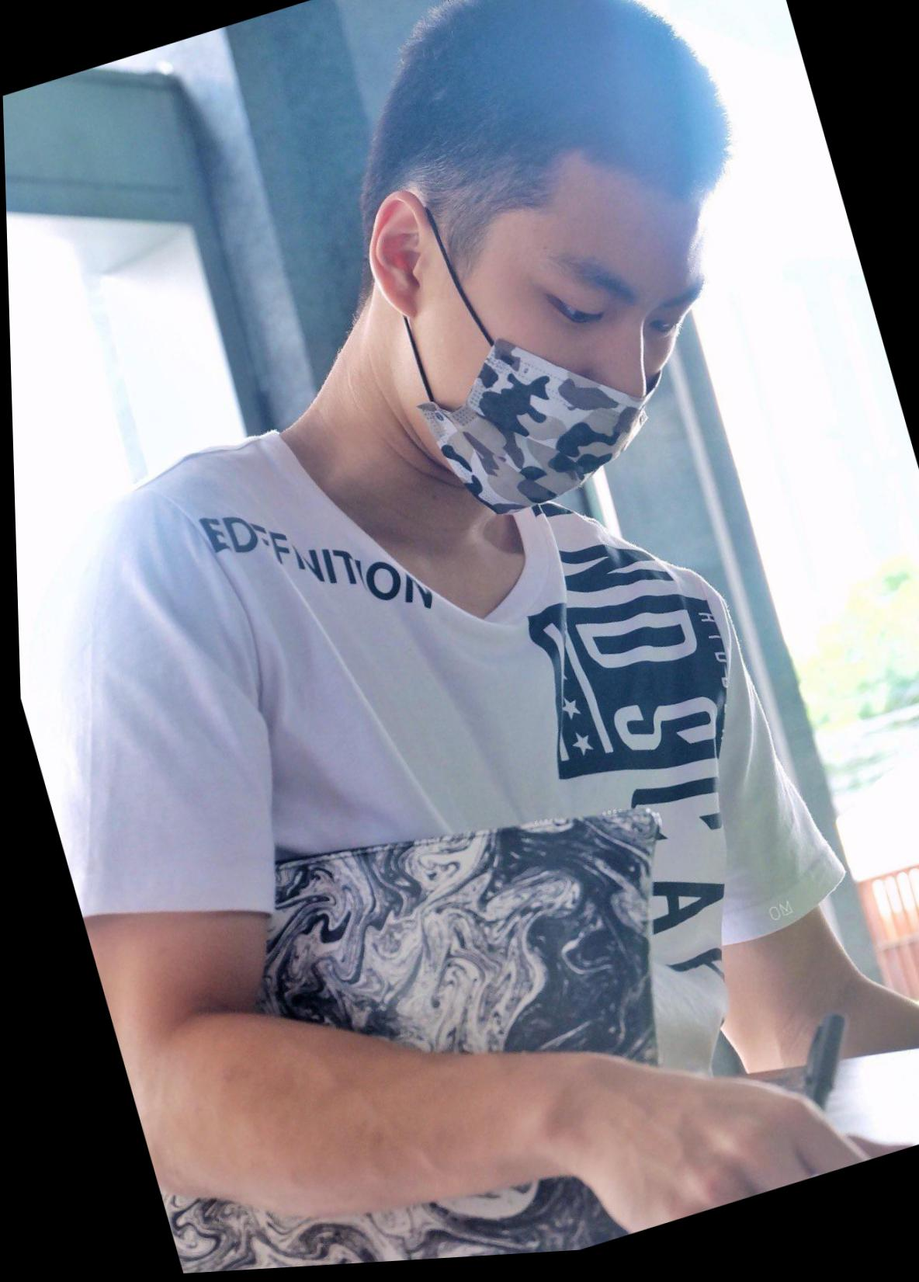WRONG: (384, 174, 753, 546)
